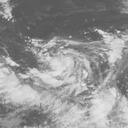cyclone: (30, 38, 86, 88)
